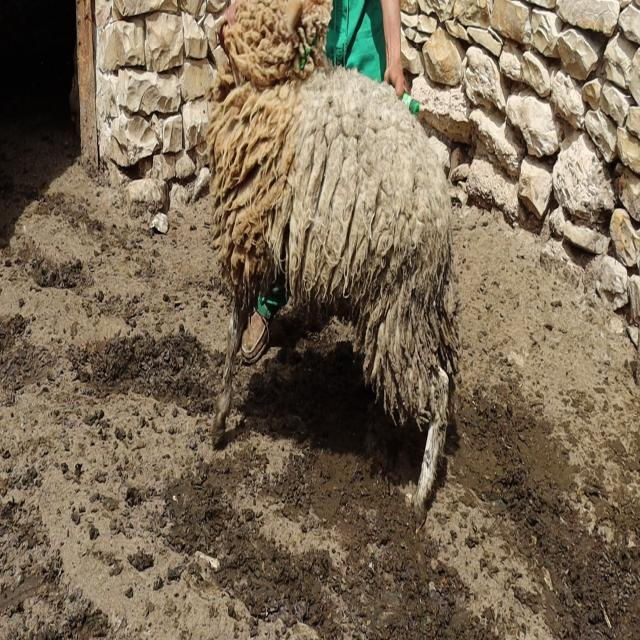Score_2: (206, 0, 458, 509)
